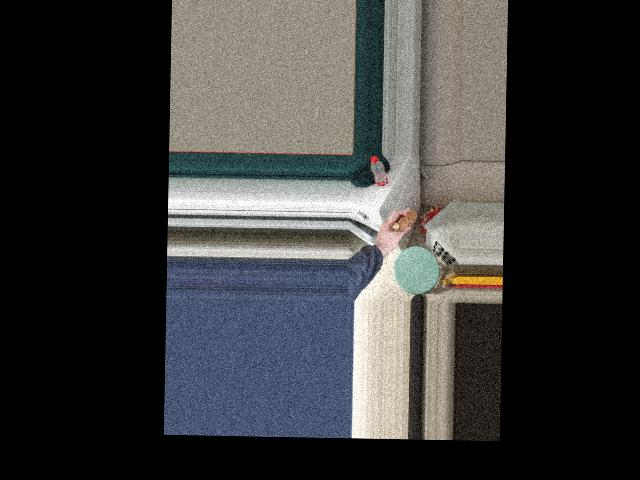sweet_potato: (389, 206, 416, 235)
